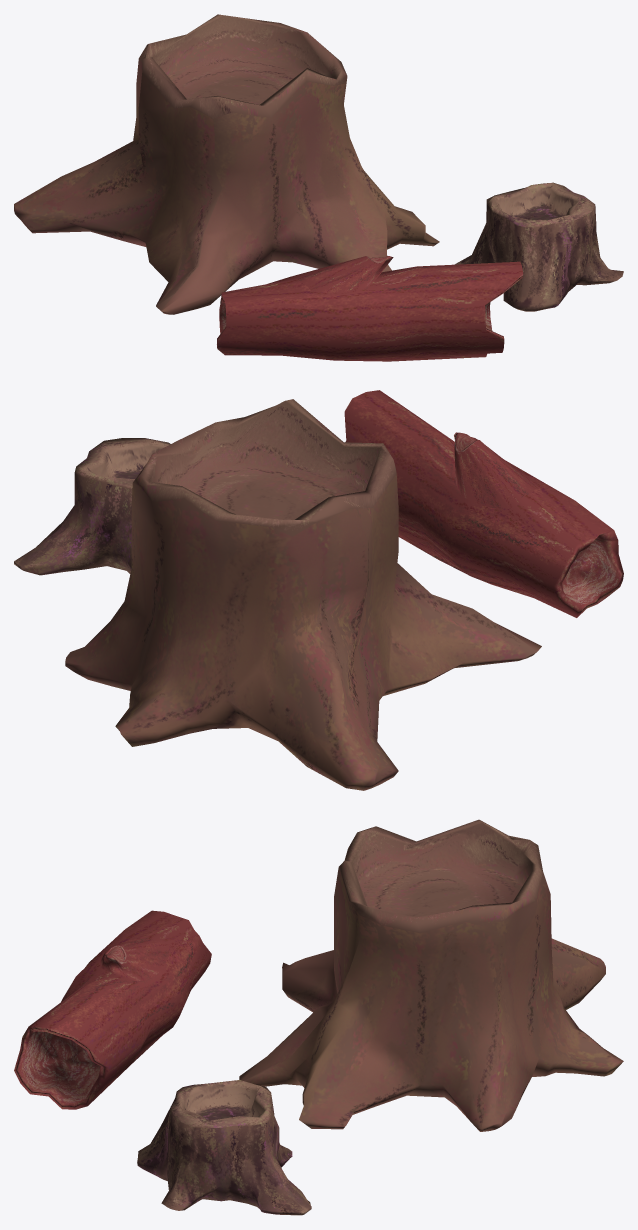
The model's file is Stumps_Log.fbx.
3 renders of one model, top to bottom at view 1: azimuth 30°, elevation 25°; view 2: azimuth 150°, elevation 25°; view 3: azimuth 270°, elevation 25°, orthographic. The views are drawn at different scales.
Parts seen in each view (by area): view 1: Stump_01, Log, Stump_02; view 2: Stump_01, Log, Stump_02; view 3: Stump_01, Log, Stump_02.
Part boxes in pixels (bbox=[...]): Stump_01: bbox=[14, 14, 439, 314]; Log: bbox=[217, 255, 523, 361]; Stump_02: bbox=[455, 182, 623, 311]; Stump_01: bbox=[65, 399, 541, 790]; Log: bbox=[344, 390, 623, 617]; Stump_02: bbox=[14, 438, 170, 575]; Stump_01: bbox=[239, 819, 623, 1131]; Log: bbox=[14, 910, 211, 1109]; Stump_02: bbox=[137, 1080, 311, 1215].
Bounding box in the file's own units: 267 × 125 × 303.
